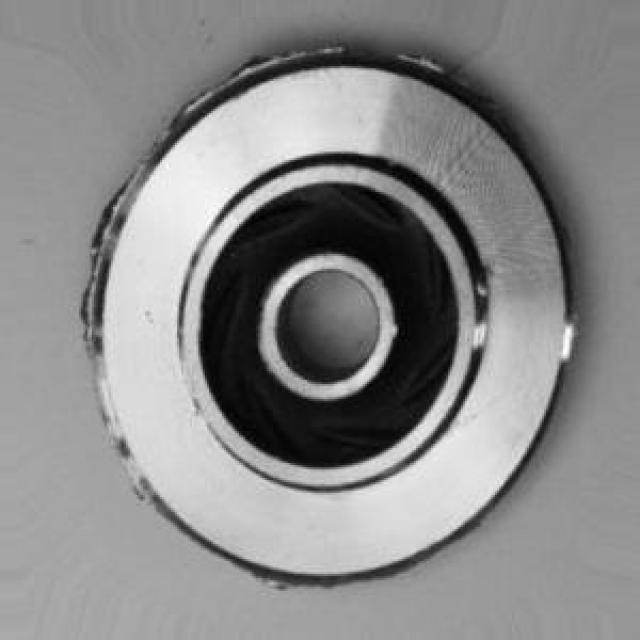Defect: (187, 60, 282, 90)
